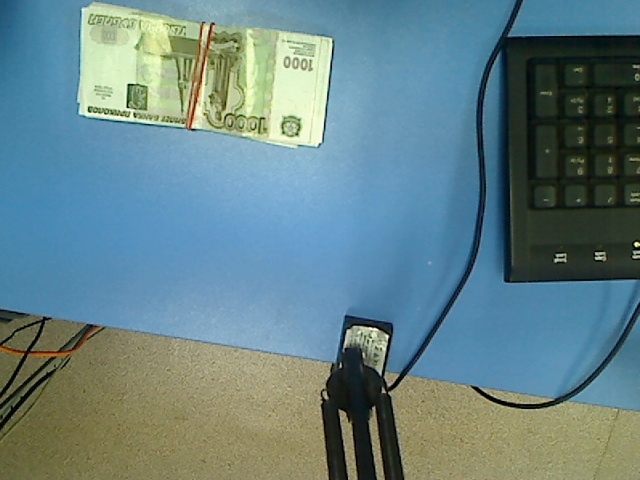banknotes: (76, 1, 335, 152)
